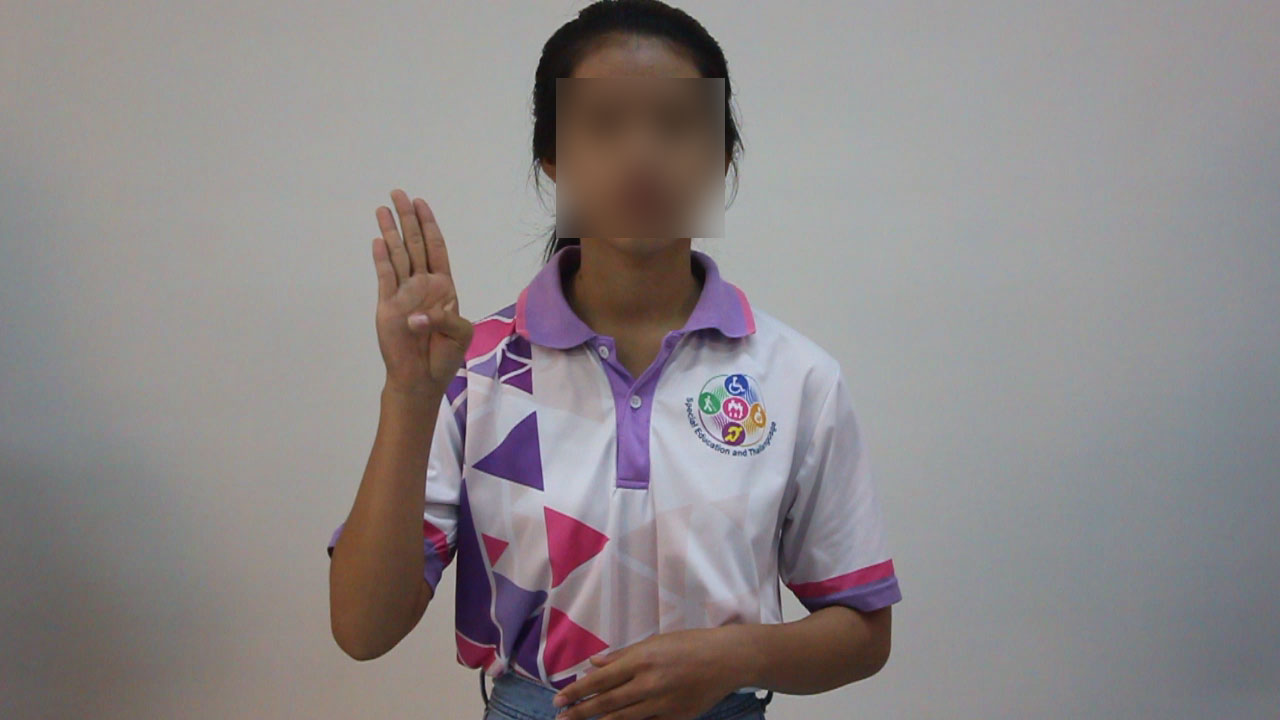bor: (352, 182, 485, 407)
